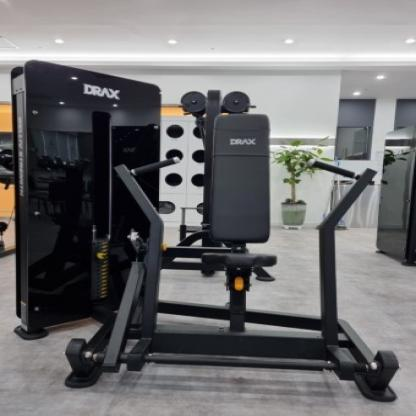Chest Press machine: (9, 57, 416, 406)
